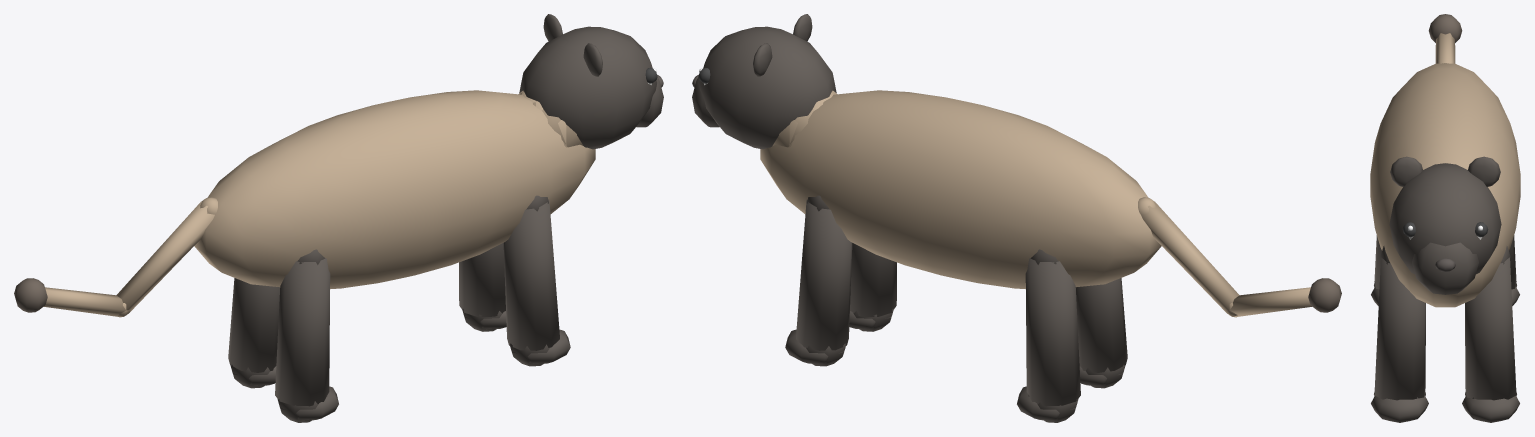
File: masked-palm-civet.glb
The picture shows the model from 3 angles, left to right: view 1: azimuth 30°, elevation 25°; view 2: azimuth 150°, elevation 25°; view 3: azimuth 270°, elevation 25°; orthographic projection. The views are drawn at different scales.
Parts seen in each view (by area): view 1: e, e.015, e.007, e.001, e.027, e.010, e.004; view 2: e, e.015, e.010, e.004, e.027, e.007, e.001; view 3: e, e.015, e.001, e.004, e.027, e.007, e.010.
Boxes of the visible parts, left/top/right/bottom form: e: left=194, top=90, right=595, bottom=289; e.015: left=519, top=14, right=663, bottom=149; e.007: left=275, top=249, right=338, bottom=422; e.001: left=503, top=195, right=570, bottom=366; e.027: left=14, top=197, right=217, bottom=317; e.010: left=228, top=278, right=280, bottom=388; e.004: left=459, top=243, right=506, bottom=331; e: left=760, top=90, right=1161, bottom=289; e.015: left=692, top=14, right=836, bottom=149; e.010: left=1017, top=249, right=1080, bottom=422; e.004: left=785, top=195, right=852, bottom=366; e.027: left=1138, top=197, right=1341, bottom=317; e.007: left=1075, top=278, right=1127, bottom=388; e.001: left=849, top=243, right=896, bottom=331; e: left=1370, top=63, right=1520, bottom=307; e.015: left=1389, top=156, right=1501, bottom=294; e.001: left=1371, top=246, right=1428, bottom=422; e.004: left=1462, top=246, right=1519, bottom=422; e.027: left=1428, top=14, right=1462, bottom=63; e.007: left=1371, top=235, right=1381, bottom=305; e.010: left=1509, top=235, right=1519, bottom=305.
Bounding box in the file's own units: 1.23 × 0.5492 × 0.2574.
